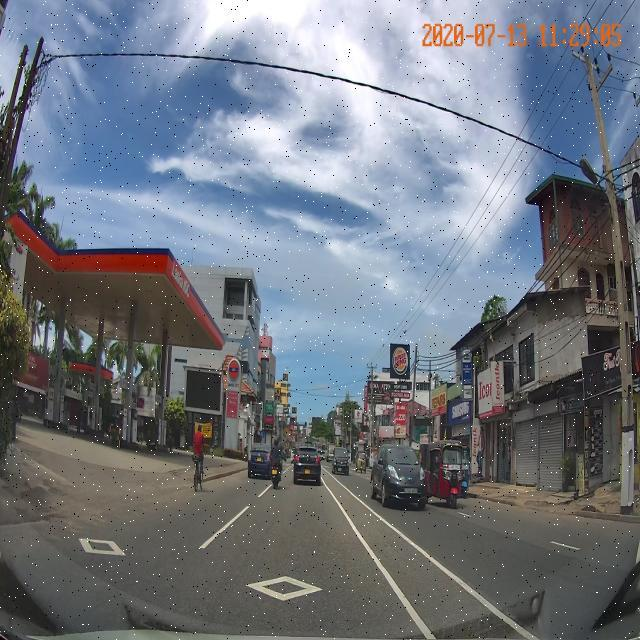diamond: (149, 532, 423, 620)
